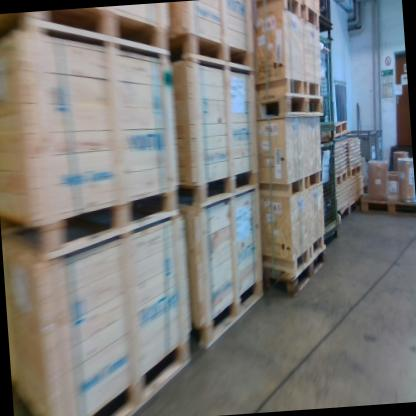pallet: (260, 250, 332, 302), (255, 86, 328, 137), (358, 183, 416, 222), (333, 166, 350, 193), (330, 119, 348, 141), (349, 160, 366, 183)
stillage: (305, 138, 343, 251), (298, 29, 340, 130), (344, 124, 380, 184), (360, 123, 386, 169), (319, 0, 341, 43)
